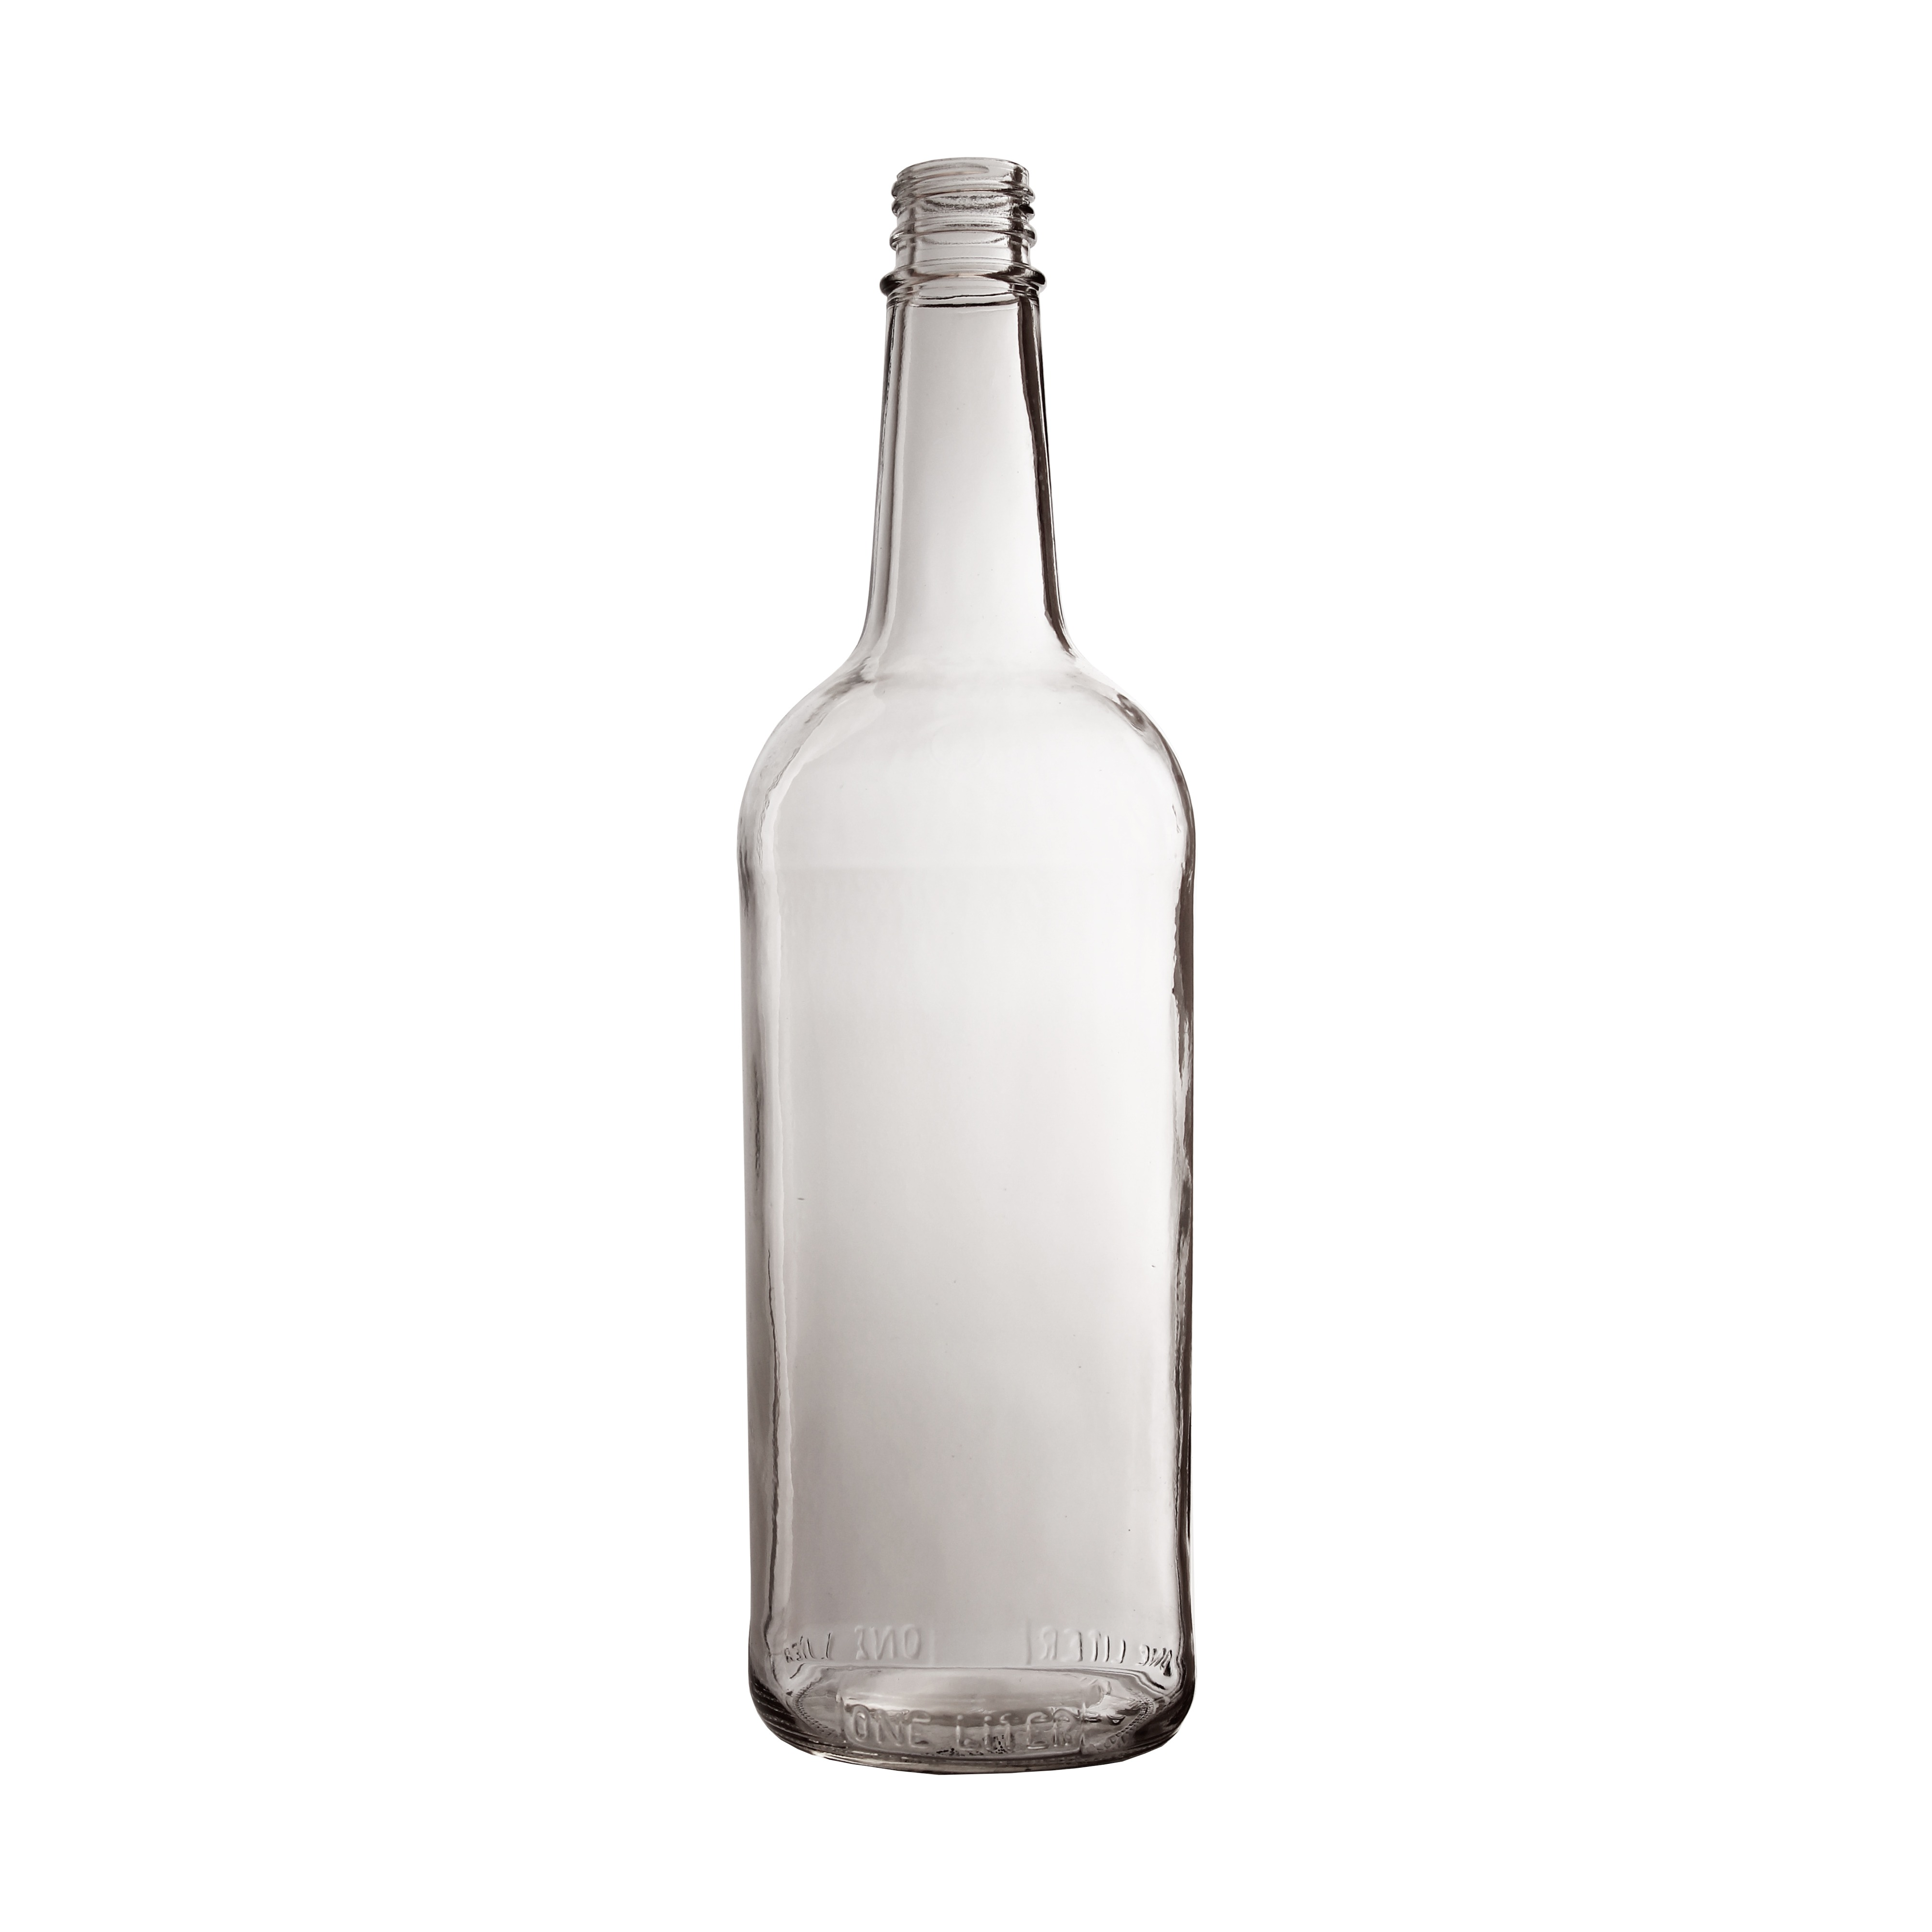container: (725, 156, 1230, 1783)
